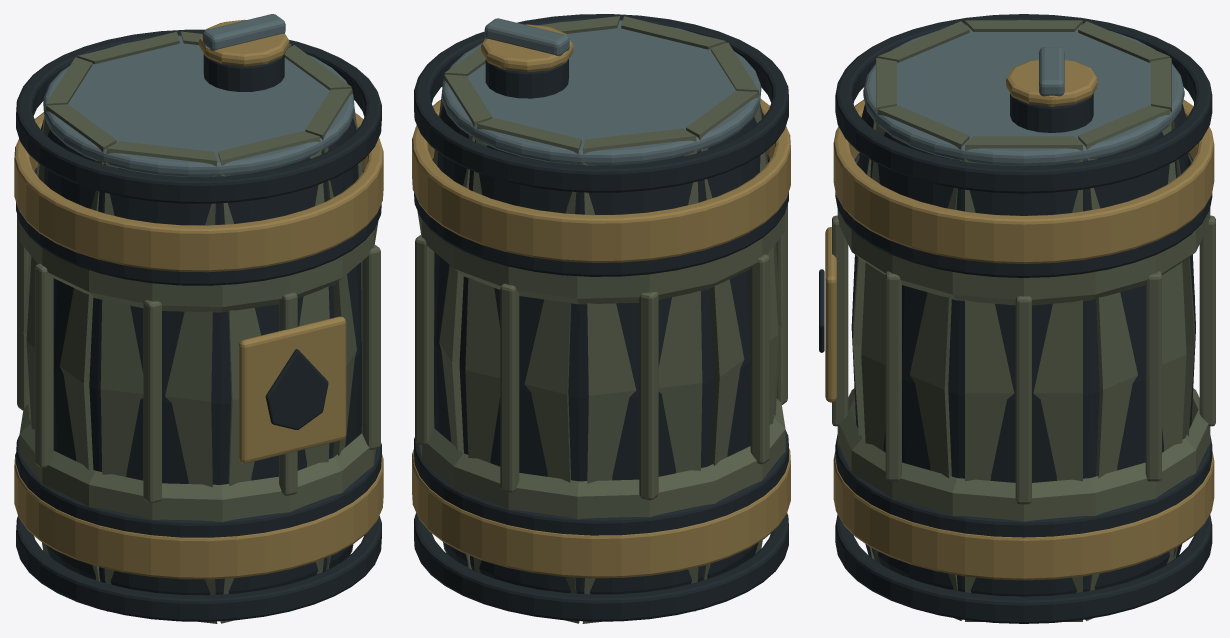
The model's file is FUEL_BARREL.hi.glb.
The picture shows the model from 3 angles, left to right: view 1: azimuth 30°, elevation 25°; view 2: azimuth 150°, elevation 25°; view 3: azimuth 270°, elevation 25°; orthographic projection. The views are drawn at different scales.
Parts seen in each view (by area): view 1: Body_Mesh; view 2: Body_Mesh; view 3: Body_Mesh.
Boxes of the visible parts, x1=… form: Body_Mesh: x1=14, y1=14, x2=383, y2=623; Body_Mesh: x1=412, y1=14, x2=790, y2=623; Body_Mesh: x1=819, y1=14, x2=1215, y2=623.
Size of the model in its own units: 0.825 by 1.25 by 0.8525.
